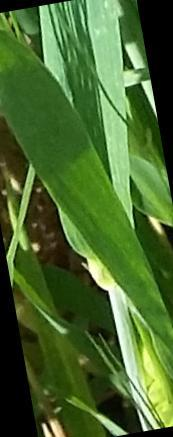Wheat: (0, 33, 173, 352)
